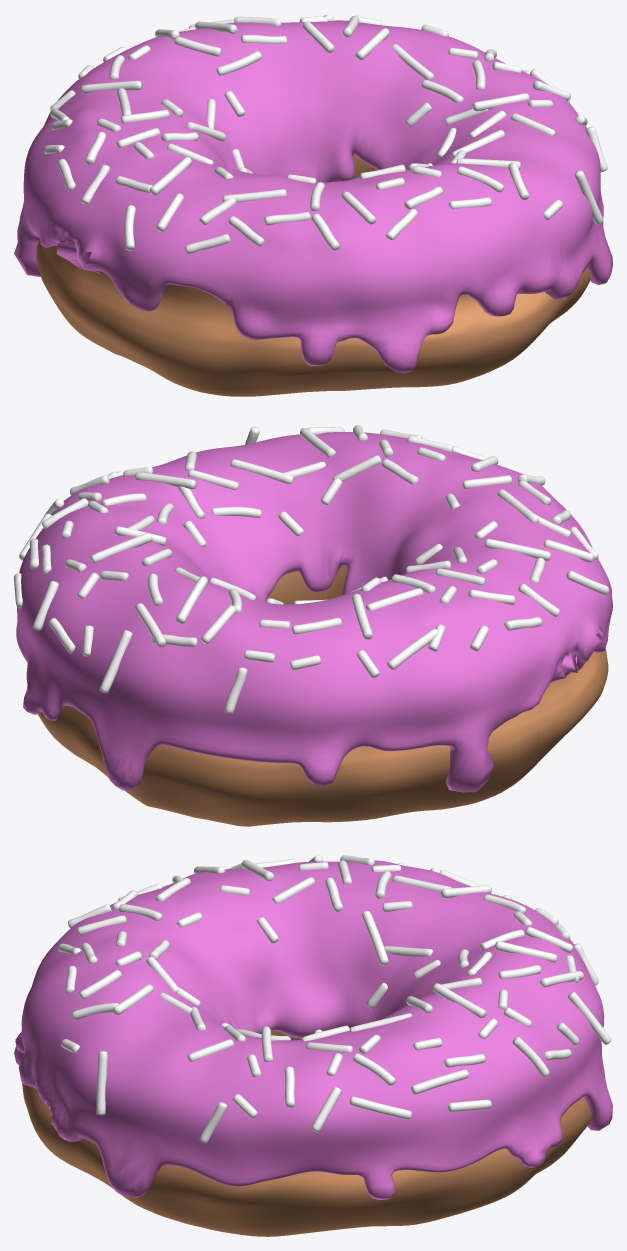
Rendered from donut.glb.
3 views of the same model, one above another, from view 1: azimuth 30°, elevation 25°; view 2: azimuth 150°, elevation 25°; view 3: azimuth 270°, elevation 25° (orthographic). The views are drawn at different scales.
Parts seen in each view (by area): view 1: Icing, Donut; view 2: Icing, Donut; view 3: Icing, Donut.
Part boxes in pixels (x1=…): Icing: x1=14, y1=14, x2=612, y2=373; Donut: x1=36, y1=155, x2=590, y2=396; Icing: x1=14, y1=425, x2=612, y2=792; Donut: x1=38, y1=566, x2=608, y2=826; Icing: x1=14, y1=855, x2=612, y2=1199; Donut: x1=22, y1=1030, x2=591, y2=1236.
Size of the model in its own units: 0.111 by 0.0452 by 0.1122.
3 materials, 1 textured.
